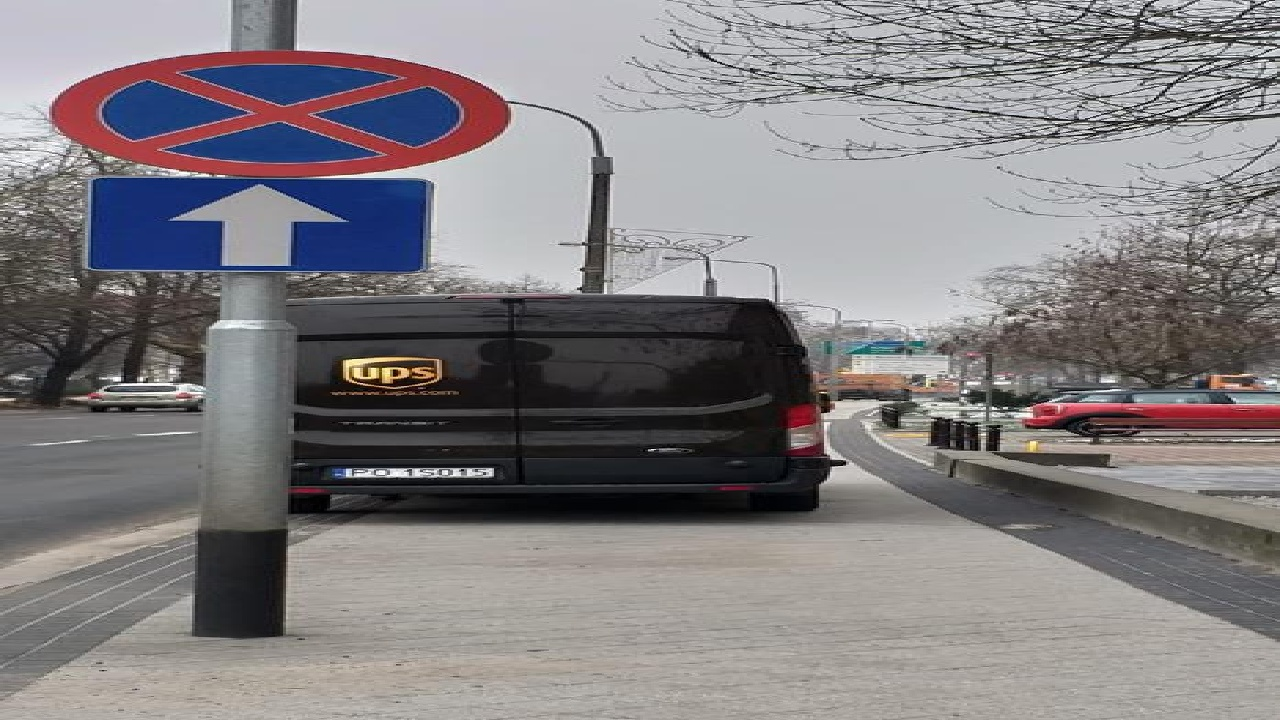B36: (53, 50, 513, 178)
D3: (87, 177, 428, 271)
